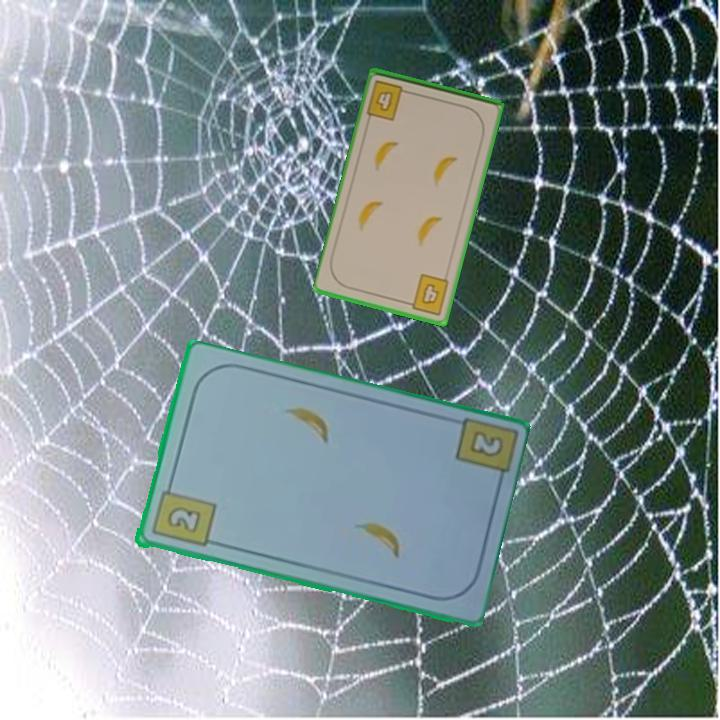2b: (148, 479, 218, 550), (469, 430, 503, 458)
4b: (402, 270, 452, 318), (363, 77, 414, 123)
